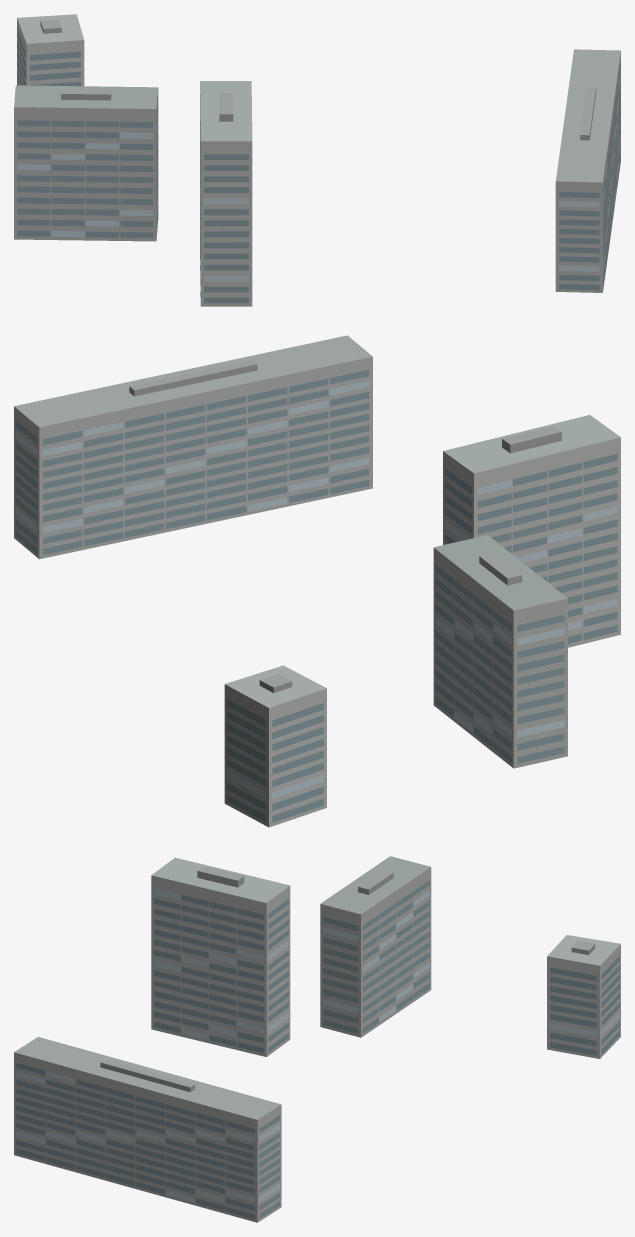
File: apt-a15884901.glb
The picture shows the model from 3 angles, top to bottom: view 1: azimuth 30°, elevation 25°; view 2: azimuth 150°, elevation 25°; view 3: azimuth 270°, elevation 25°; orthographic projection. The views are drawn at different scales.
Parts seen in each view (by area): view 1: apt-a15884901; view 2: apt-a15884901; view 3: apt-a15884901.
Boxes of the visible parts, x1,y1,x2,y2 form: apt-a15884901: (14,14,620,306); apt-a15884901: (14,335,620,827); apt-a15884901: (14,856,620,1222).
Size of the model in its own units: 155 by 47.81 by 163.
